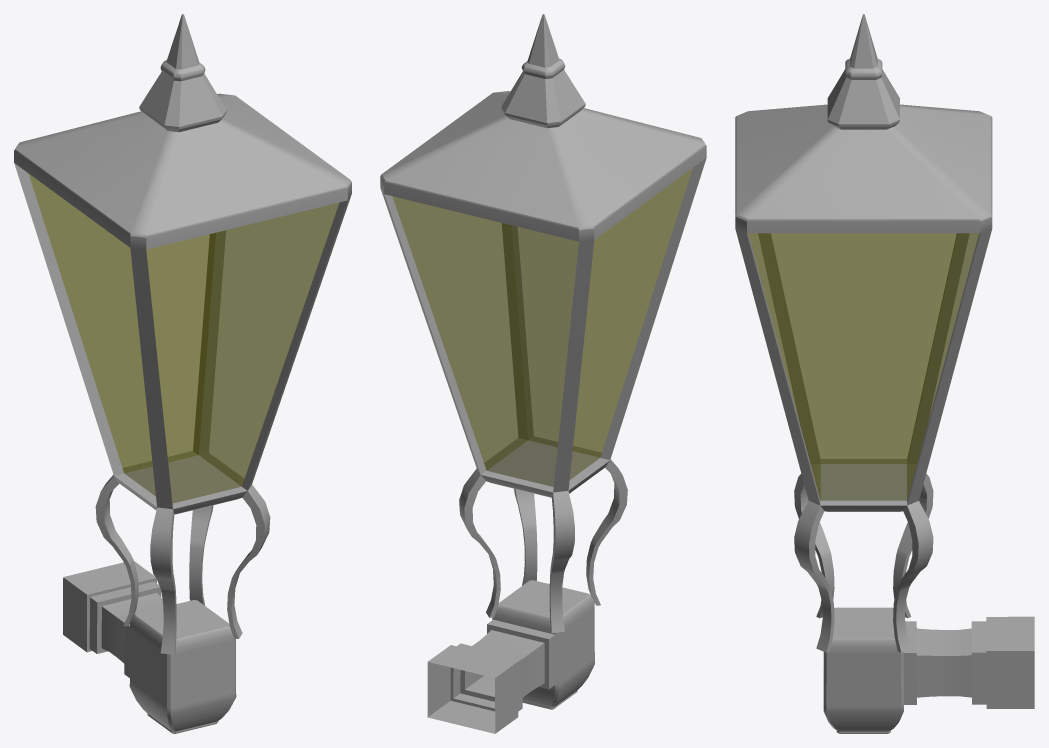
The model's file is WallLight.fbx.
3 views of the same model, side by side, from view 1: azimuth 30°, elevation 25°; view 2: azimuth 150°, elevation 25°; view 3: azimuth 270°, elevation 25° (orthographic). The views are drawn at different scales.
Visible parts, largest first — view 1: WallLight; view 2: WallLight; view 3: WallLight.
Boxes of the visible parts, box(x1,y1,x2,y2) form: WallLight: box(14, 14, 351, 733); WallLight: box(380, 14, 706, 733); WallLight: box(735, 14, 1034, 733).
Bounding box in the file's own units: 14.97 × 45.51 × 17.43.
